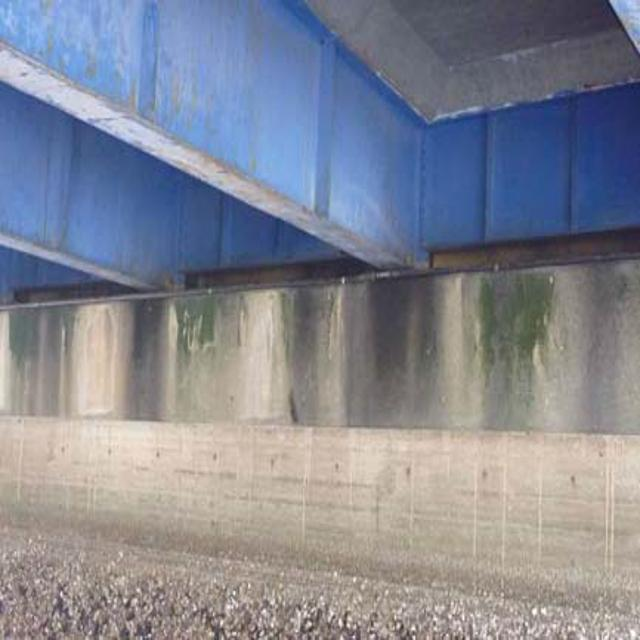leakage: (19, 266, 578, 434)
